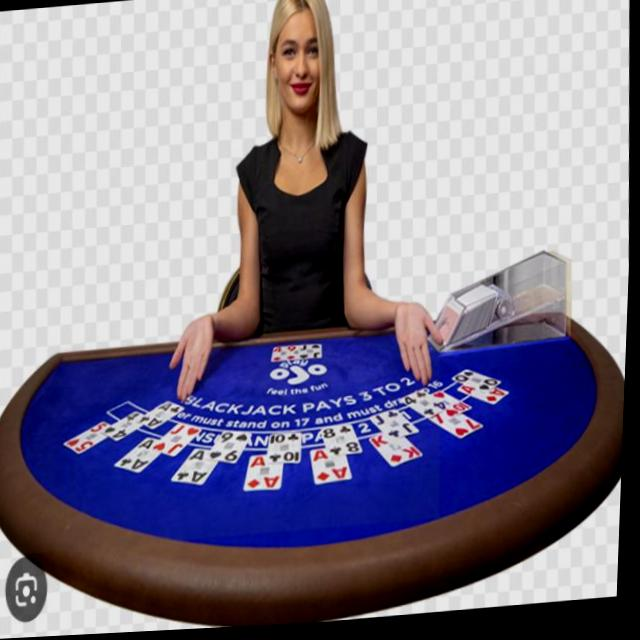Card-10: (436, 394, 474, 421), (272, 435, 305, 465)
Card-4: (402, 392, 454, 422), (108, 411, 148, 442), (273, 348, 290, 364)
Card-5: (67, 419, 113, 455)
Card-7: (433, 413, 487, 442)
Card-8: (326, 426, 365, 460)
Card-9: (213, 433, 254, 465), (289, 347, 302, 362)
Card-A: (174, 450, 221, 487), (117, 437, 164, 473), (313, 450, 355, 488), (248, 456, 286, 492), (144, 402, 187, 431), (462, 388, 512, 408)
Card-J: (158, 424, 203, 457), (375, 412, 421, 444), (302, 346, 324, 361)
Card-K: (372, 435, 425, 472)
Card-Q: (455, 372, 504, 393)
